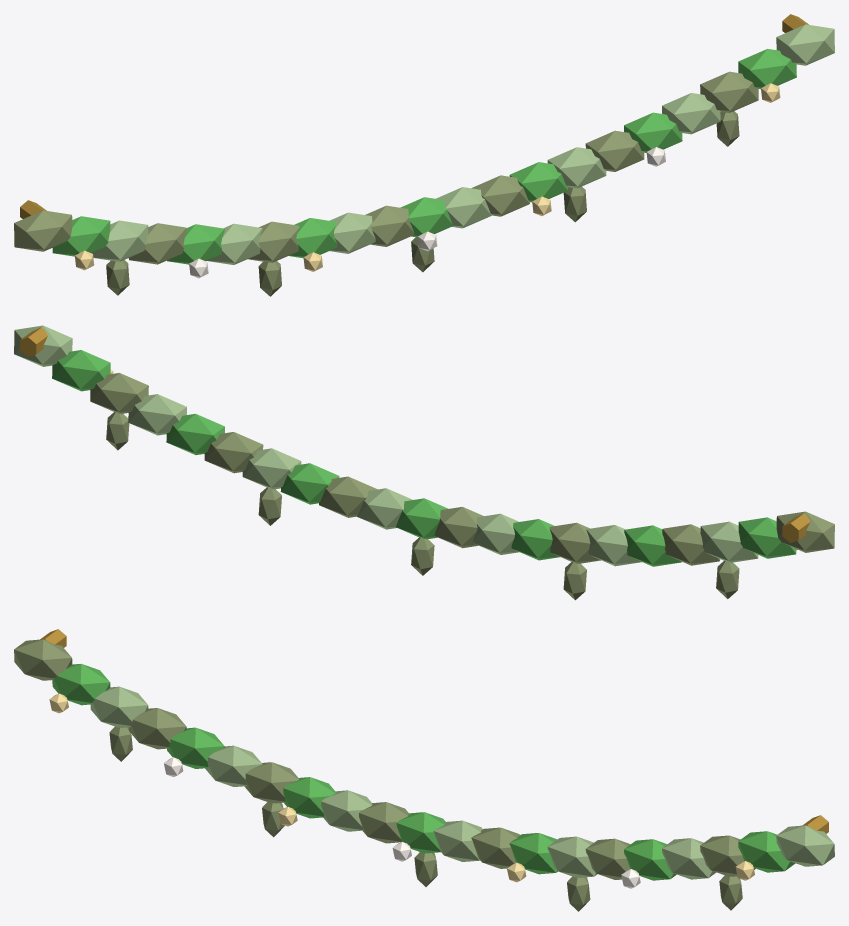
File: CatCafe_Prop_GardenGarland.glb
3 views of the same model, one above another, from view 1: azimuth 30°, elevation 25°; view 2: azimuth 150°, elevation 25°; view 3: azimuth 330°, elevation 25° (orthographic).
Visible parts, largest first — view 1: CatCafe_Prop_GardenGarland; view 2: CatCafe_Prop_GardenGarland; view 3: CatCafe_Prop_GardenGarland.
Boxes of the visible parts, bbox=[...] form: CatCafe_Prop_GardenGarland: bbox=[14, 14, 834, 296]; CatCafe_Prop_GardenGarland: bbox=[14, 325, 834, 600]; CatCafe_Prop_GardenGarland: bbox=[14, 629, 834, 911].
Size of the model in its own units: 8.6 by 1.57 by 0.5901.
1 material, 1 textured.
